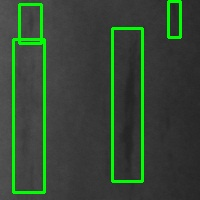inclusion: (13, 39, 44, 192), (112, 28, 142, 181), (19, 4, 41, 43), (168, 1, 180, 37)
